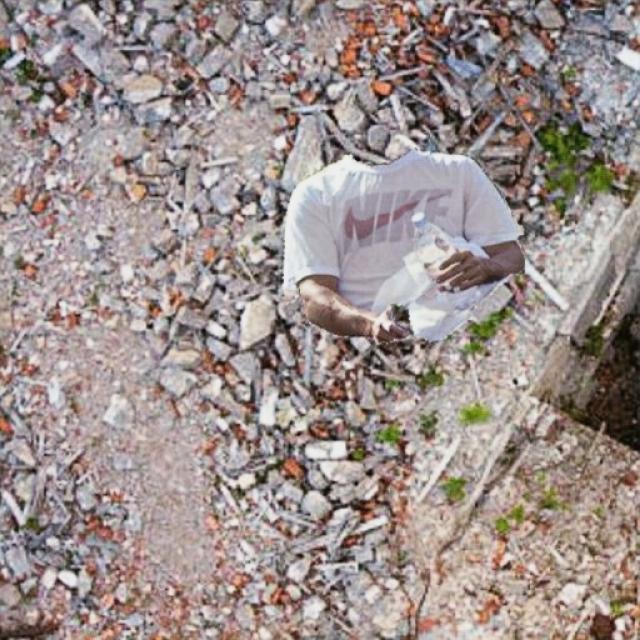Person in Rubble: (282, 148, 524, 342)
